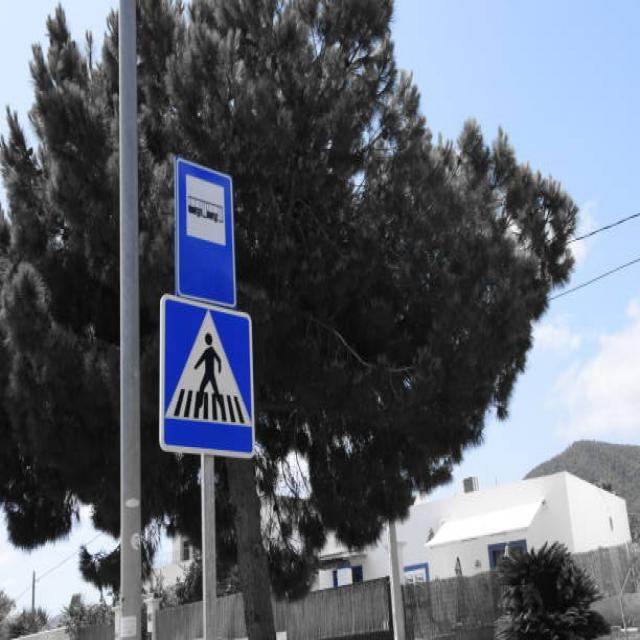crosswalk: (154, 289, 262, 468)
